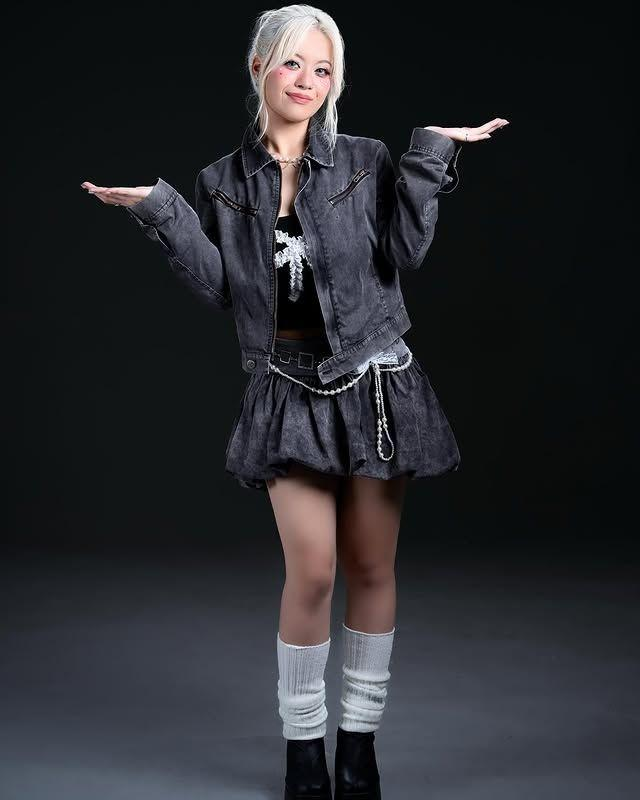non-dog: (78, 3, 510, 800)
